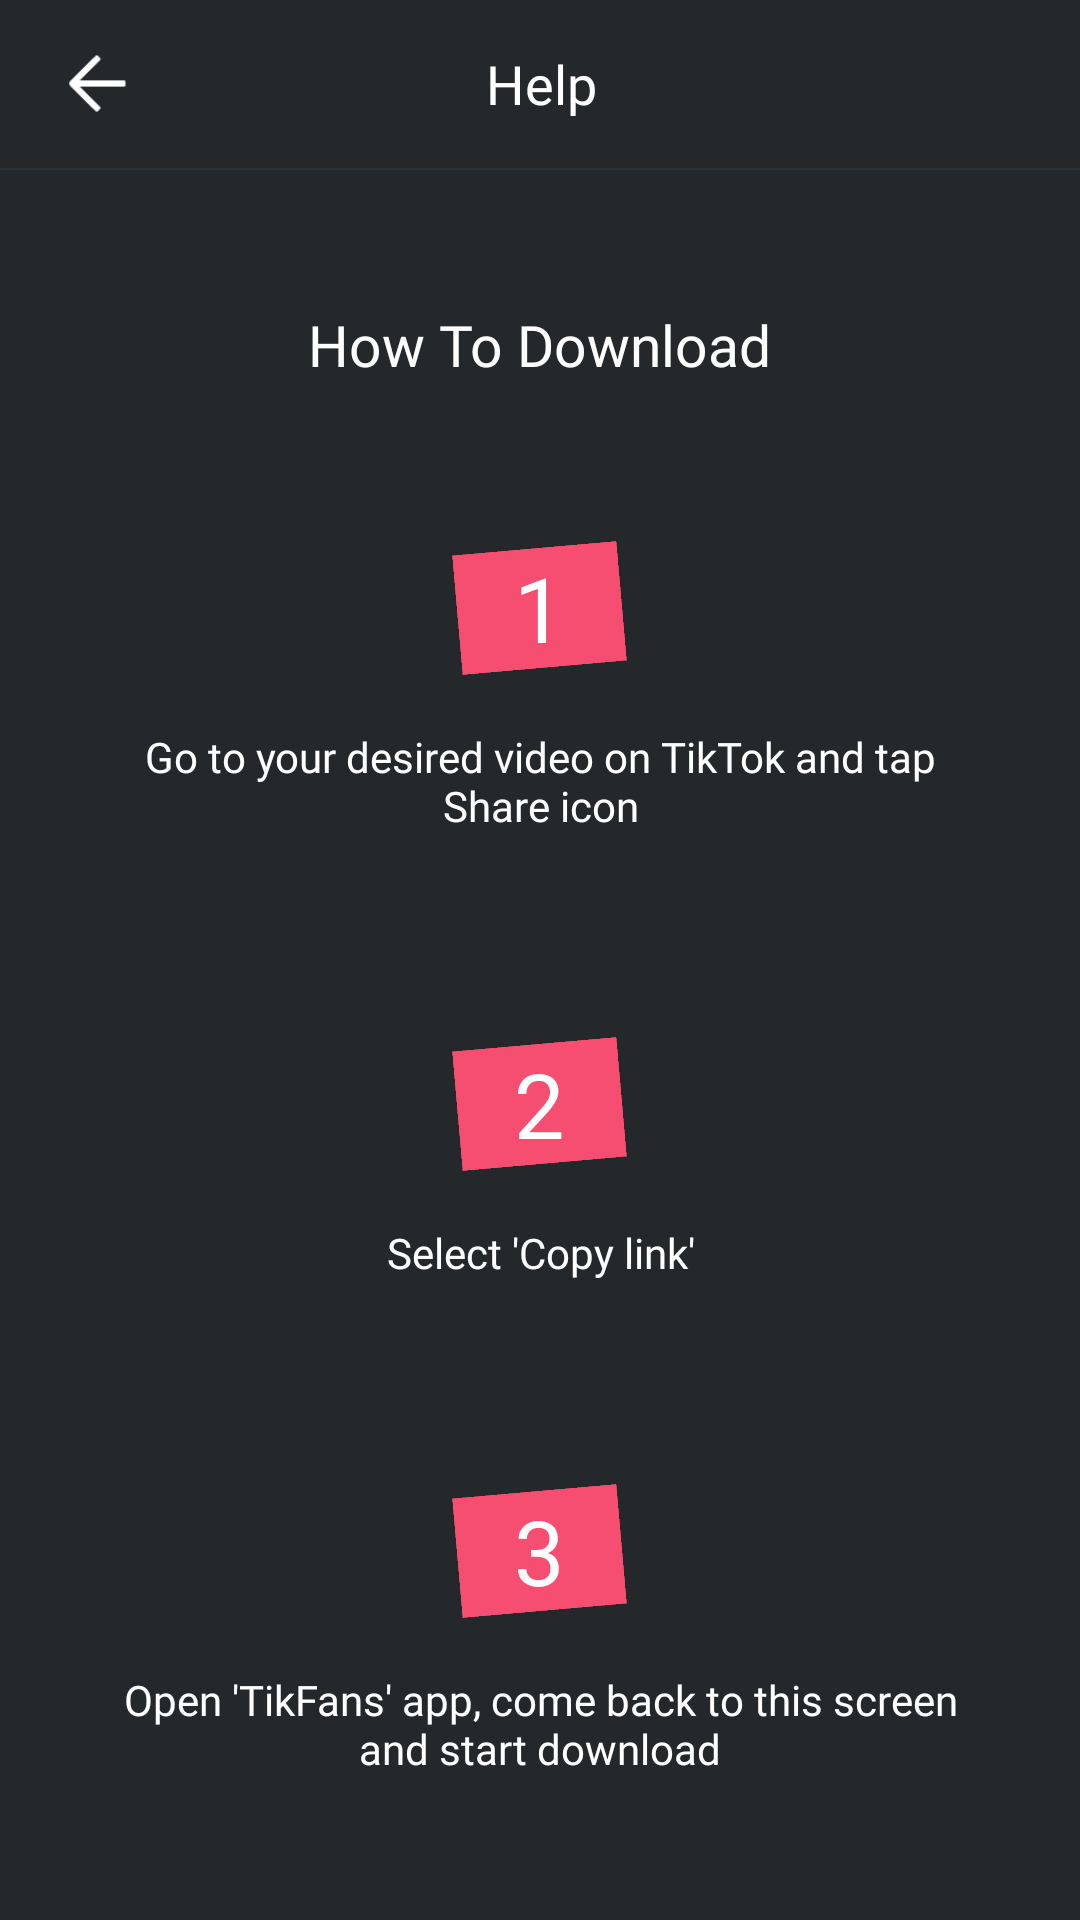

Screen size 1080 x 1920. Icon name, then its center in pixels as [x,y]:
arrow back: [97,83]
